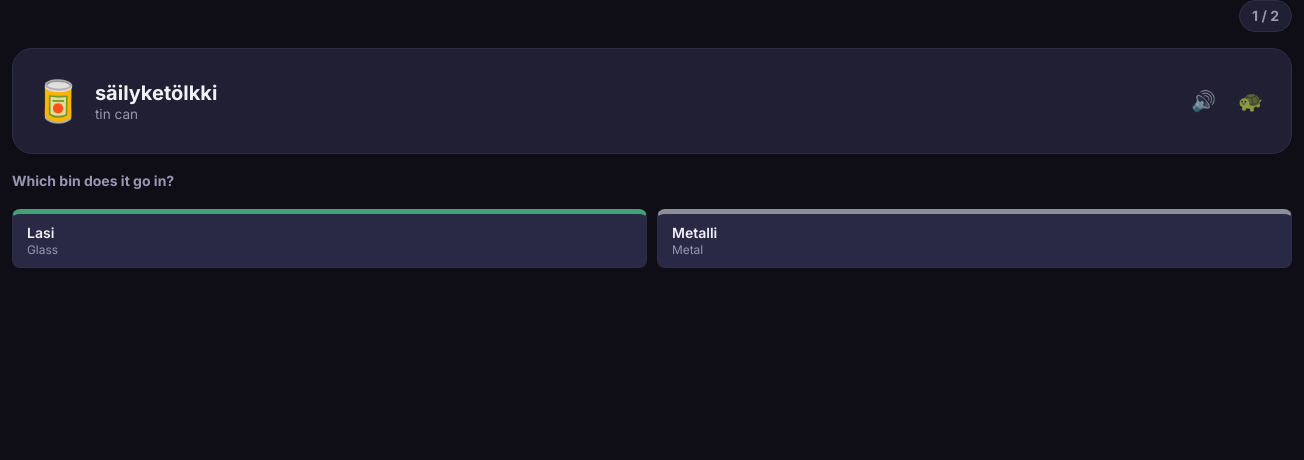
Test case: Scene UI Components › SortGame › shows the hint and marks the bin on a wrong tap, then lets the player retry
Expected: the element showing "Lasi Glass Metalli Metal" is shown, top-left (12, 209), bottom-right (1292, 268)
What coordinates should you click on to do the following:
click the button "Lasi Glass"
I would click on:
 (42, 249)
Its box is top-left (12, 209), bottom-right (647, 268).
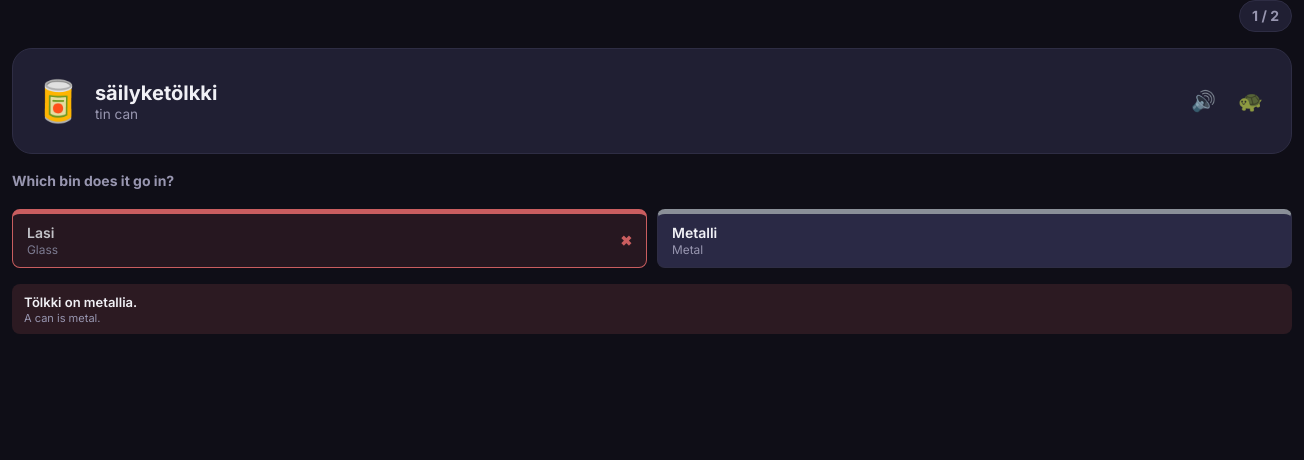
Result: the button "Lasi Glass ✖" is disabled at top-left (12, 209), bottom-right (647, 268)
Result: the message "Tölkki on metallia. A can is metal." is shown at top-left (12, 284), bottom-right (1292, 334)
What coordinates should you click on to do the following:
click the button "Metalli Metal"
I would click on:
 (695, 232)
Its box is top-left (657, 209), bottom-right (1292, 268).
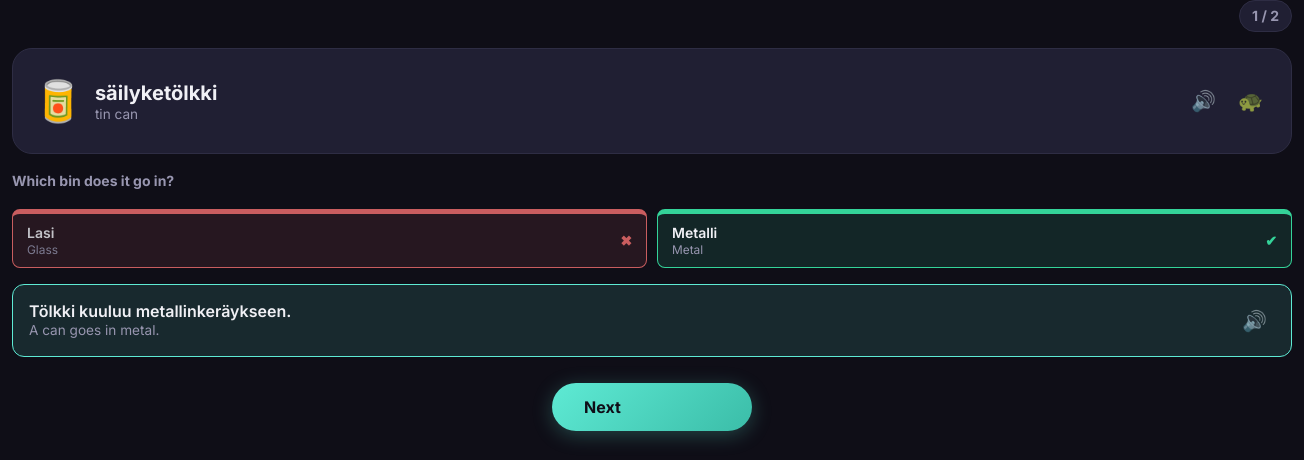
Result: the message "Tölkki on metallia. A can is metal." is gone
Result: the button "Next" is shown at top-left (552, 383), bottom-right (752, 431)
